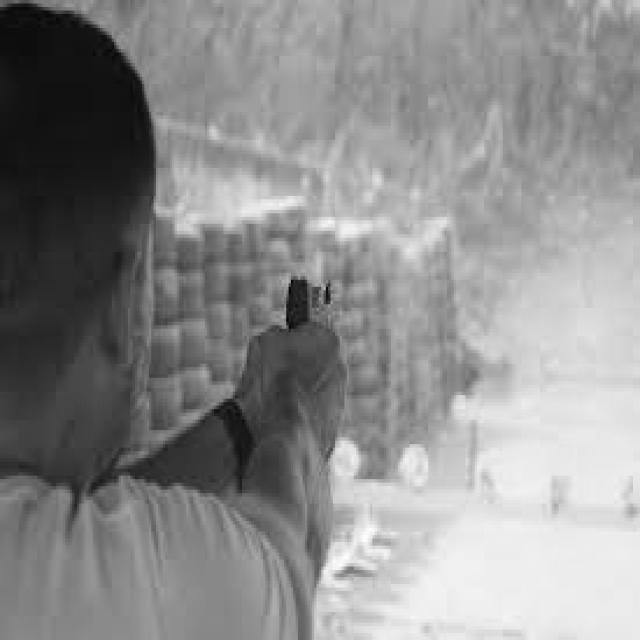handgun: (286, 272, 336, 326)
